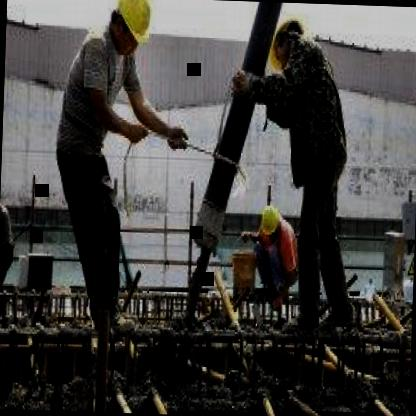helmet: (105, 0, 156, 60), (266, 11, 310, 68), (256, 200, 284, 249)
